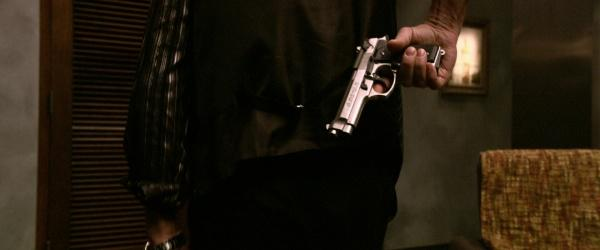Gun: (326, 35, 445, 140)
